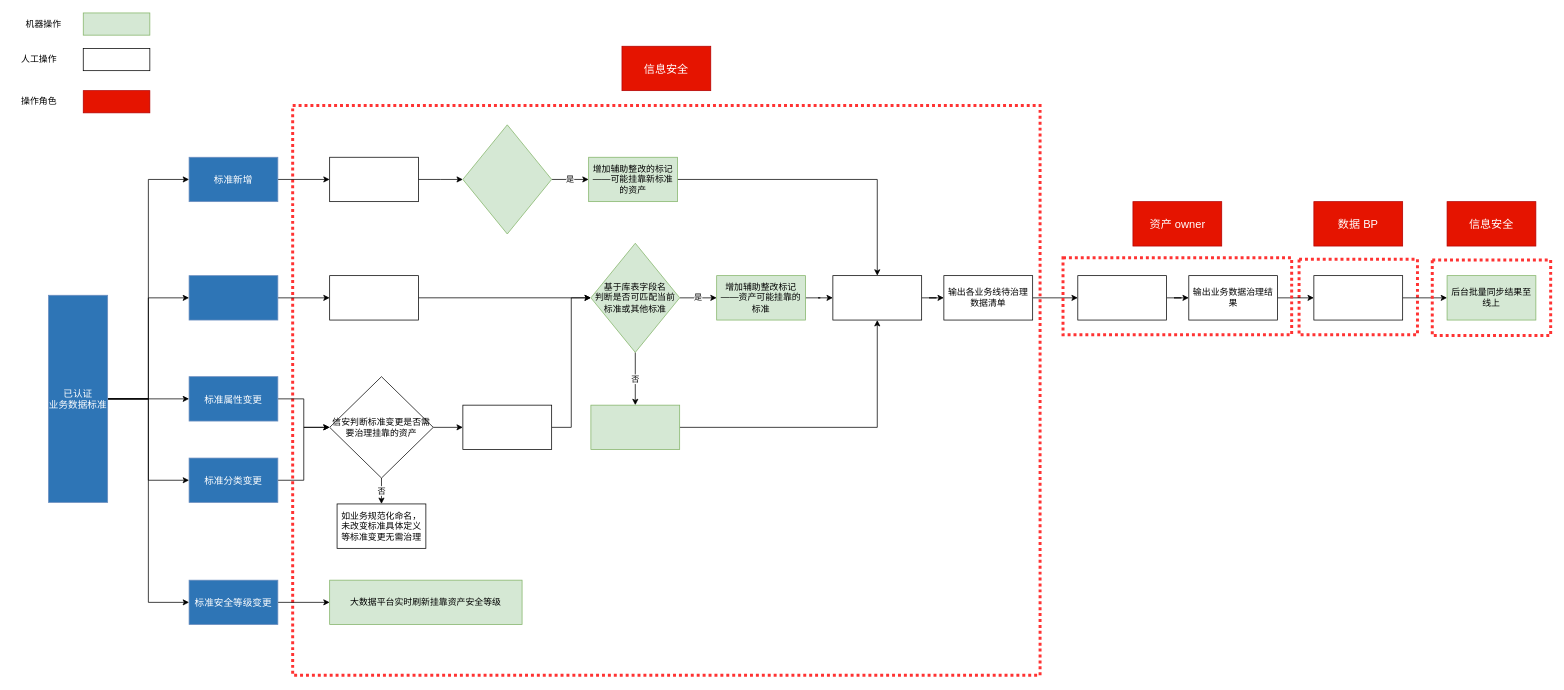
Image size: 1564x690. Some labels were removed from this diagram. The centre of each missing label's shape, as x and y in pixels:
人工核对并纠正辅助整改的标记结果: the point at 877,297
依赖辅助整改标记以及人工判断，对业务数据进行治理: the point at 1122,297
基于库表字段名 判断是否可匹配新标准: the point at 507,179
增加辅助整改标记——删除资产与标准关联: the point at 635,427
将挂靠原标准的资产与业务数据标准库匹配: the point at 507,427
将挂靠待删除标准的资产与业务数据标准库匹配: the point at 373,297
将未挂标准的资产与新标准精准匹配: the point at 373,179
标准删除: the point at 233,297
确认各业务线数据治理结果: the point at 1358,297
